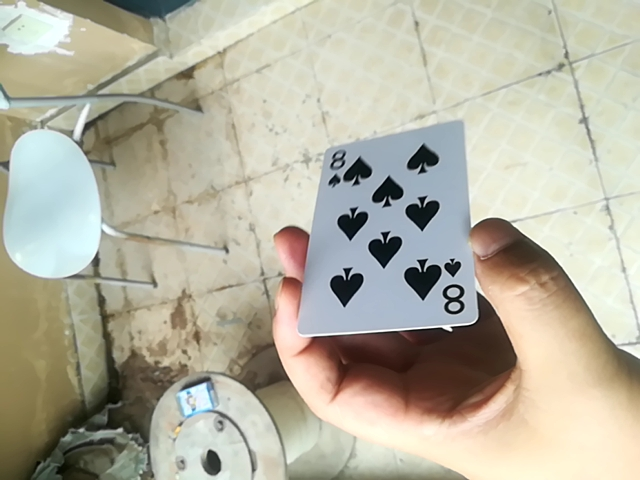ht 8: (301, 117, 476, 339)
